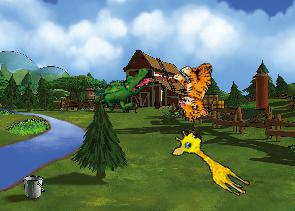crocodile: (93, 55, 158, 124)
giraffe: (166, 125, 258, 200)
tiger: (166, 57, 227, 123)
